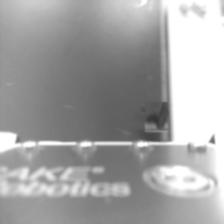Door Handle: (143, 103, 169, 131)
